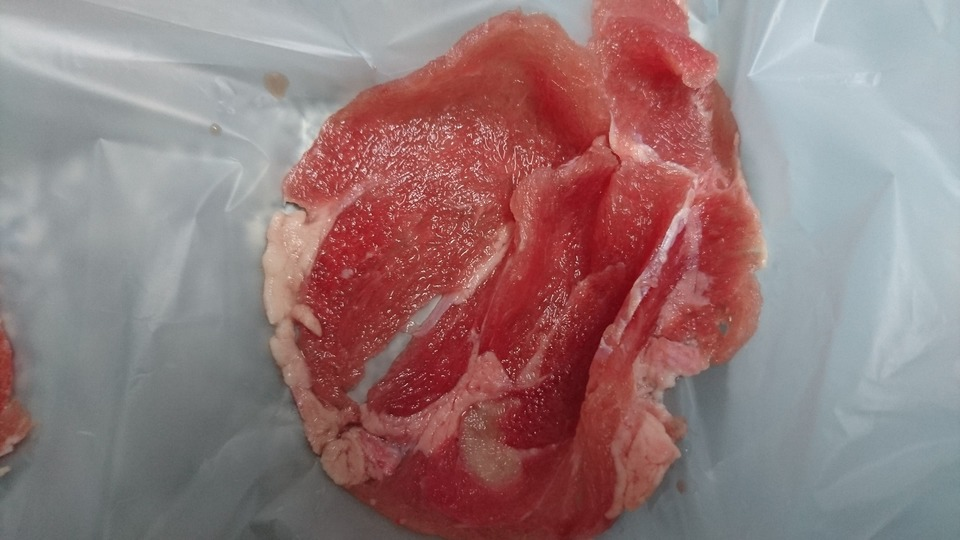restructured meat: (243, 15, 753, 526)
